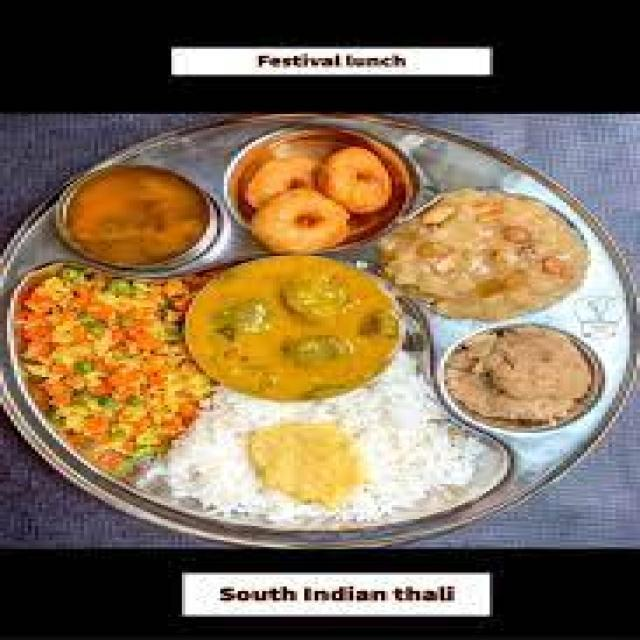dal: (187, 249, 404, 415), (51, 165, 225, 265)
rice: (176, 406, 390, 518)
sweet: (231, 129, 425, 253)
veg-fry: (387, 185, 600, 328), (225, 128, 415, 254), (45, 160, 232, 270)
